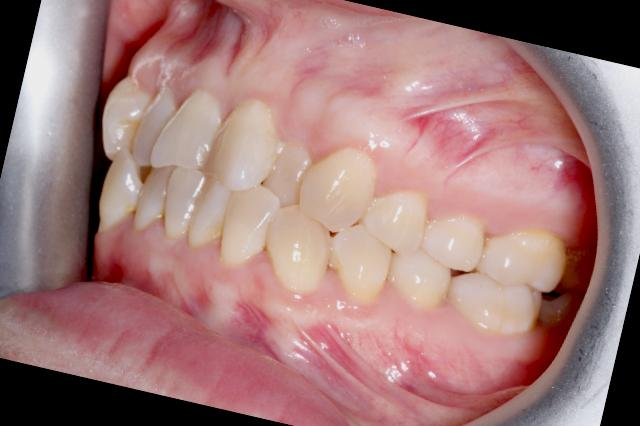canine class II 1/4: (253, 134, 414, 318)
molar class I: (438, 208, 576, 350)
